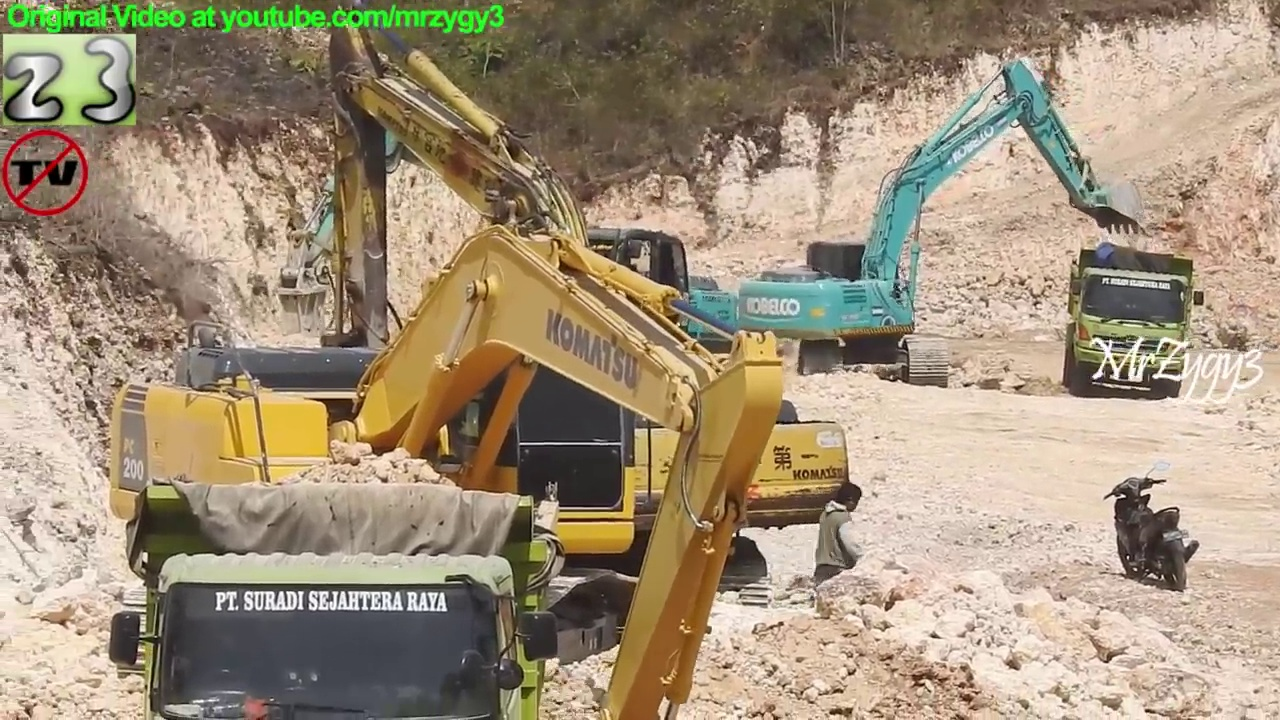excavator: (96, 202, 797, 720), (300, 1, 861, 619), (269, 78, 748, 396), (731, 52, 1151, 395)
truck: (102, 475, 570, 720), (1057, 240, 1210, 405)
